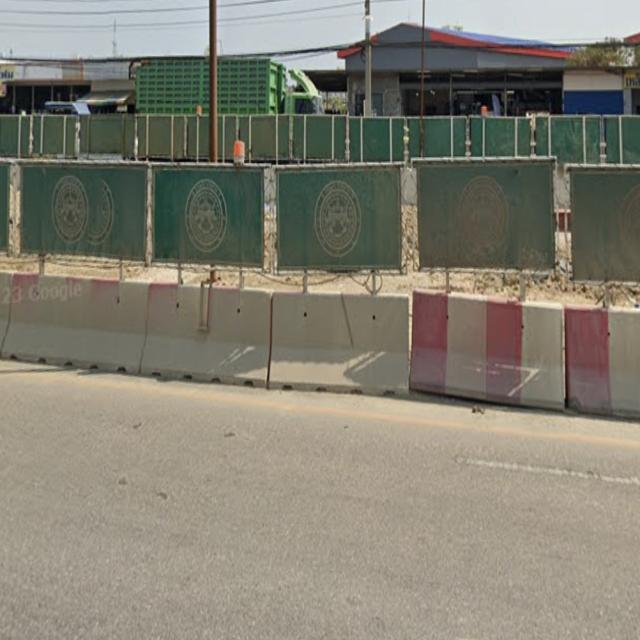fallen_object: (399, 272, 640, 432), (235, 273, 434, 420), (0, 255, 163, 401), (129, 260, 274, 415)
